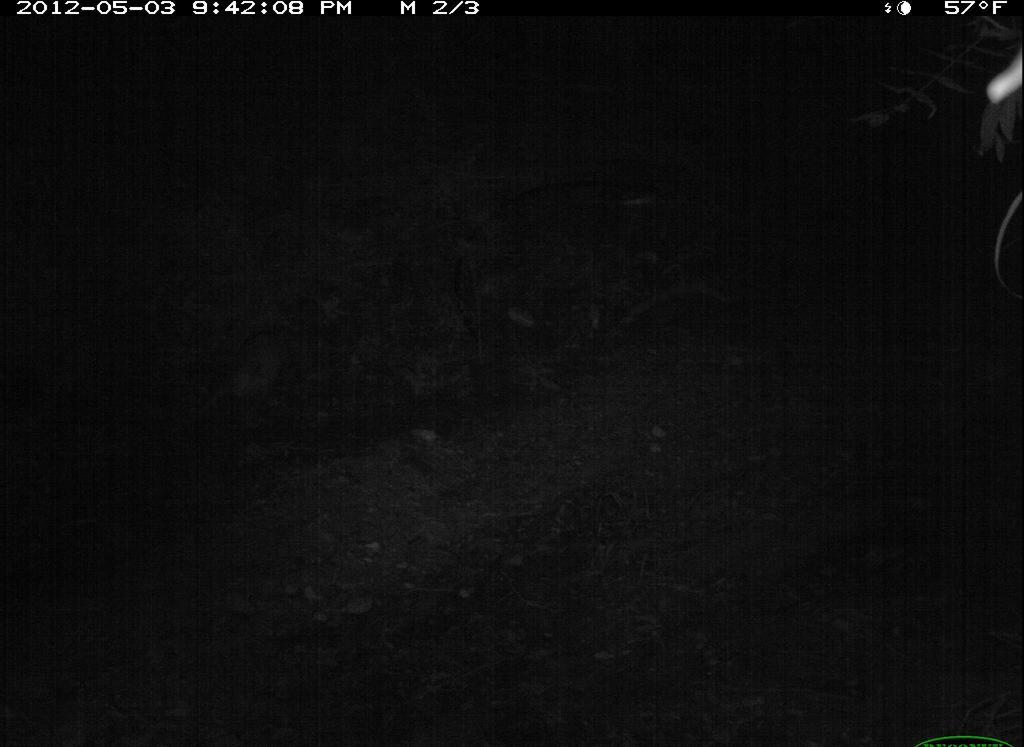opossum: (197, 324, 297, 418)
